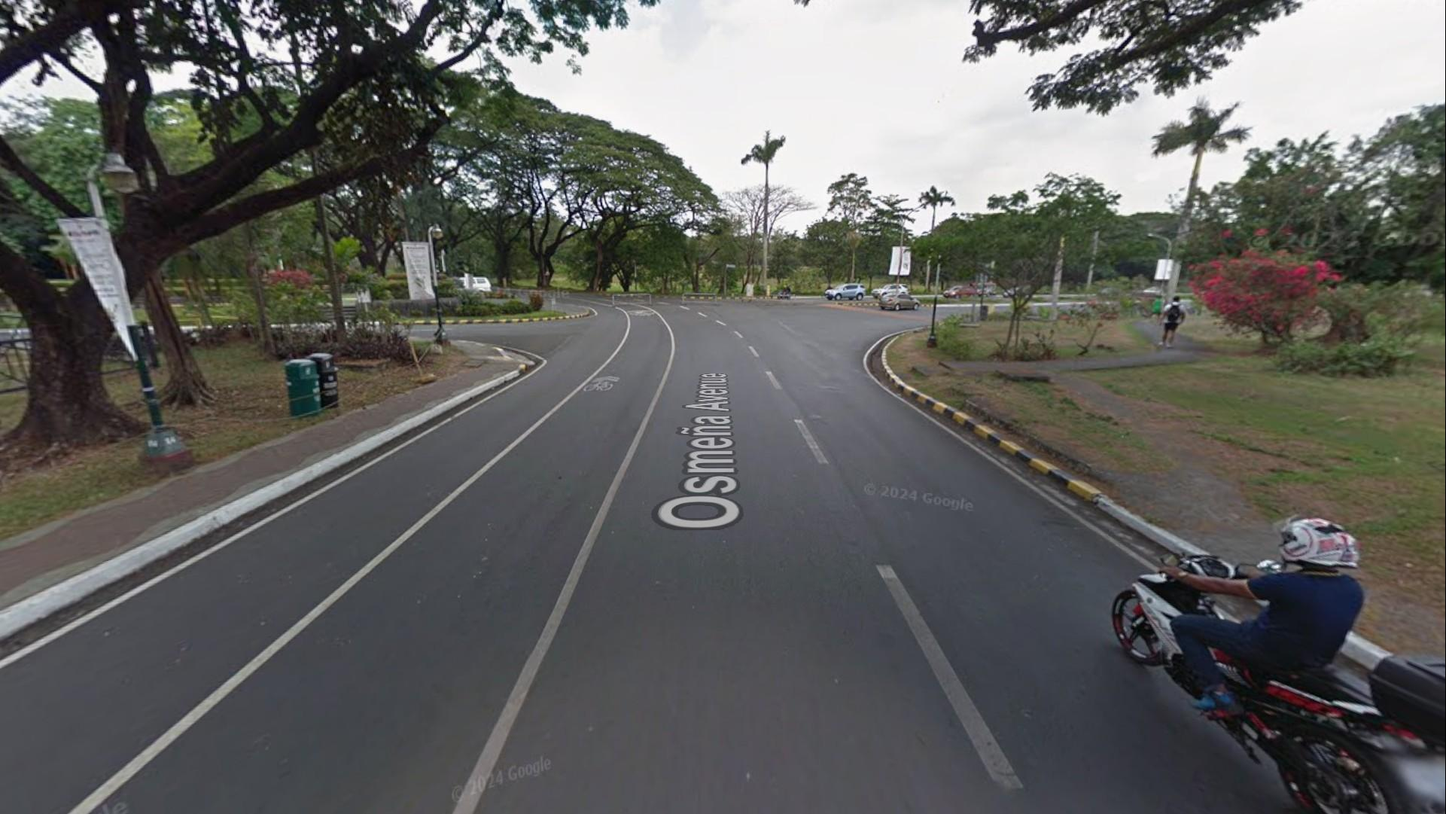pedestrian: (1159, 294, 1188, 350)
